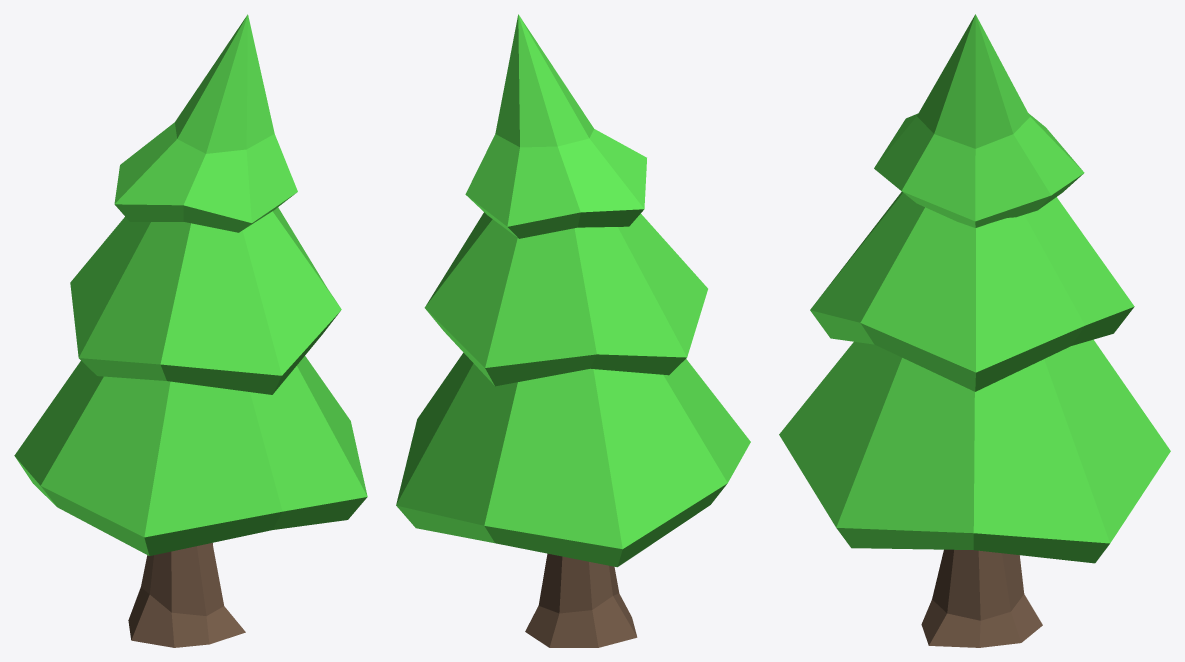
The picture shows the model from 3 angles, left to right: view 1: azimuth 30°, elevation 25°; view 2: azimuth 150°, elevation 25°; view 3: azimuth 270°, elevation 25°; orthographic projection. The views are drawn at different scales.
Parts seen in each view (by area): view 1: Tree_Spruce_tiny_01; view 2: Tree_Spruce_tiny_01; view 3: Tree_Spruce_tiny_01.
Boxes of the visible parts, left/top/right/bottom form: Tree_Spruce_tiny_01: left=14, top=14, right=367, bottom=647; Tree_Spruce_tiny_01: left=396, top=14, right=750, bottom=647; Tree_Spruce_tiny_01: left=779, top=14, right=1170, bottom=647.
Bounding box in the file's own units: 407 × 748 × 412.
